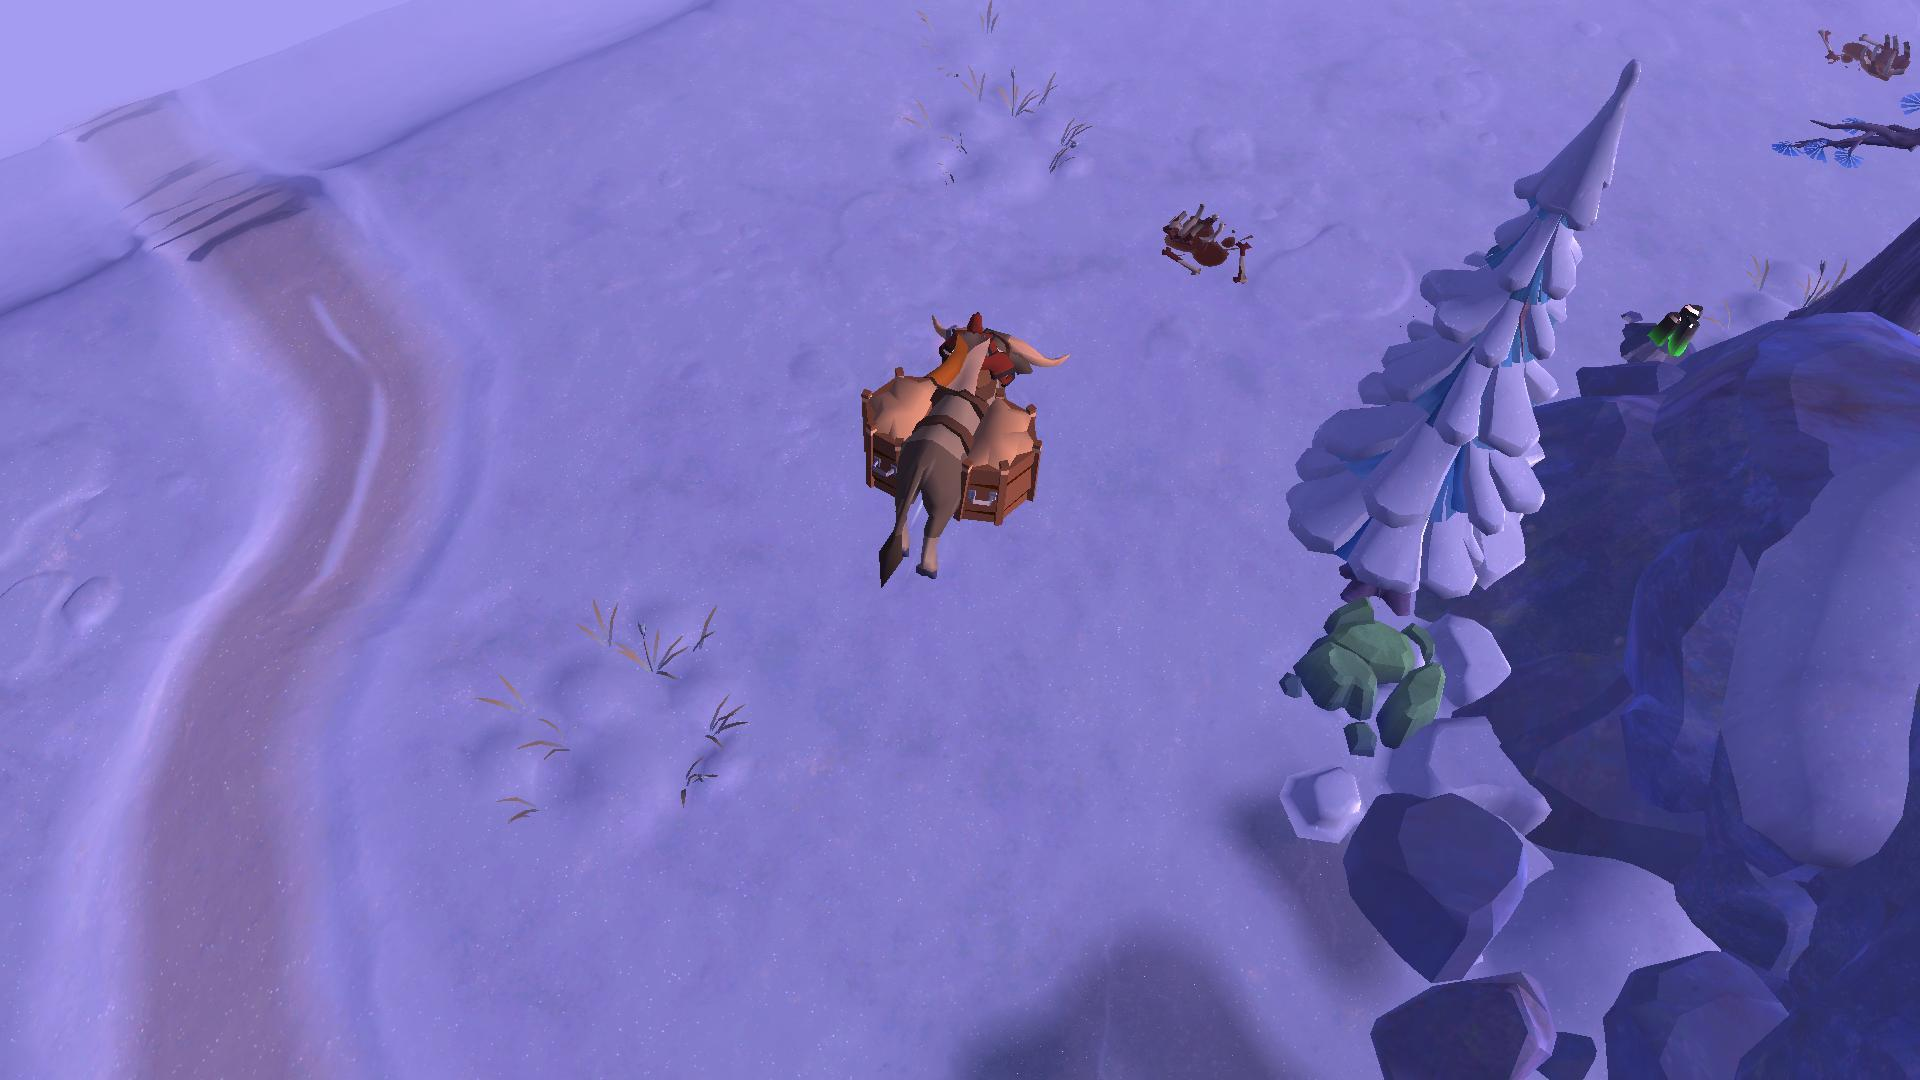ore_t3: (1650, 301, 1704, 352)
rock_t3: (1262, 591, 1445, 752)
